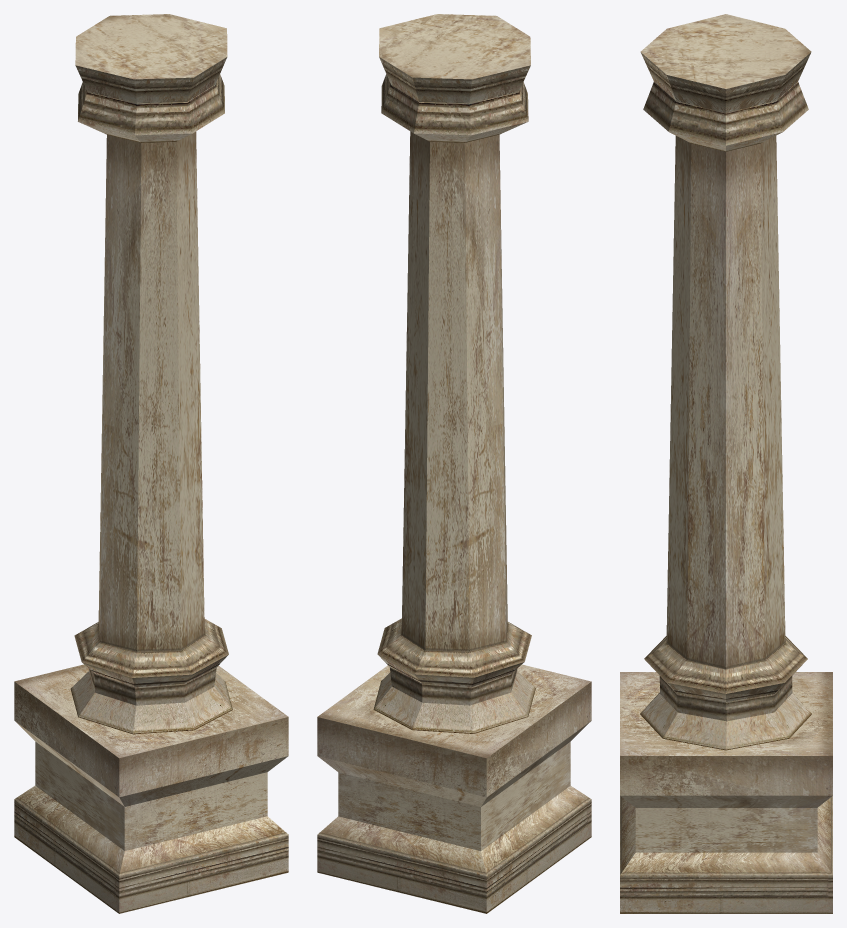
The model's file is svspartapillar4.dae.
The picture shows the model from 3 angles, left to right: view 1: azimuth 30°, elevation 25°; view 2: azimuth 150°, elevation 25°; view 3: azimuth 270°, elevation 25°; orthographic projection.
Parts seen in each view (by area): view 1: cylinder4_sep51-0; view 2: cylinder4_sep51-0; view 3: cylinder4_sep51-0.
Boxes of the visible parts, <box> form: cylinder4_sep51-0: <box>14,14,288,913</box>; cylinder4_sep51-0: <box>317,14,591,913</box>; cylinder4_sep51-0: <box>620,14,832,913</box>.
Size of the model in its own units: 79.05 by 360 by 84.73.
